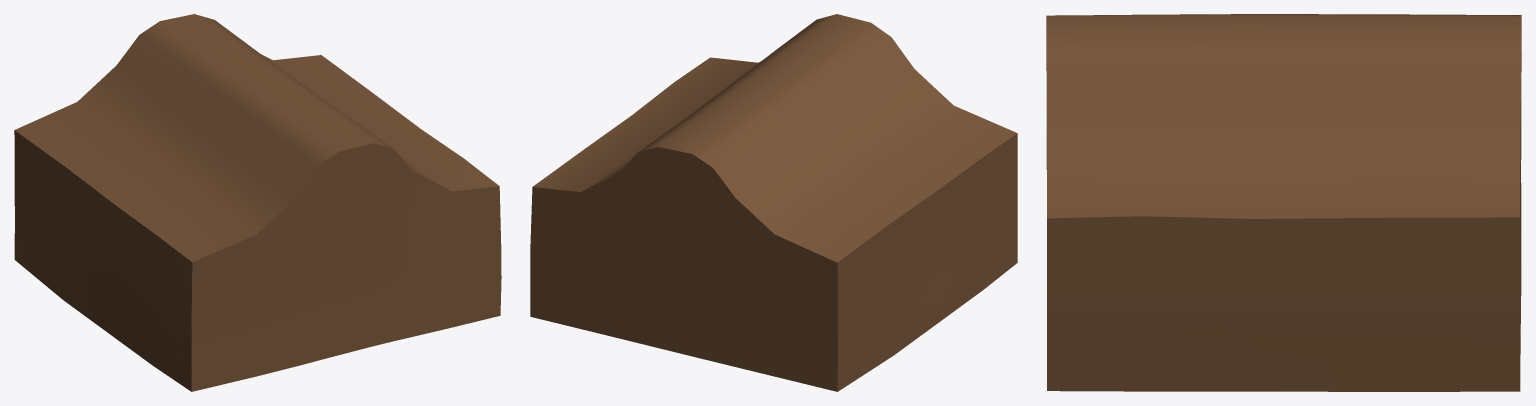
Rendered from ground.fbx.
3 views of the same model, side by side, from view 1: azimuth 30°, elevation 25°; view 2: azimuth 150°, elevation 25°; view 3: azimuth 270°, elevation 25° (orthographic). The views are drawn at different scales.
Visible parts, largest first — view 1: main; view 2: main; view 3: main.
Boxes of the visible parts, x1=… form: main: x1=14, y1=14, x2=501, y2=391; main: x1=530, y1=14, x2=1017, y2=391; main: x1=1046, y1=14, x2=1521, y2=391.
Bounding box in the file's own units: 1.4 × 0.8816 × 1.39.
